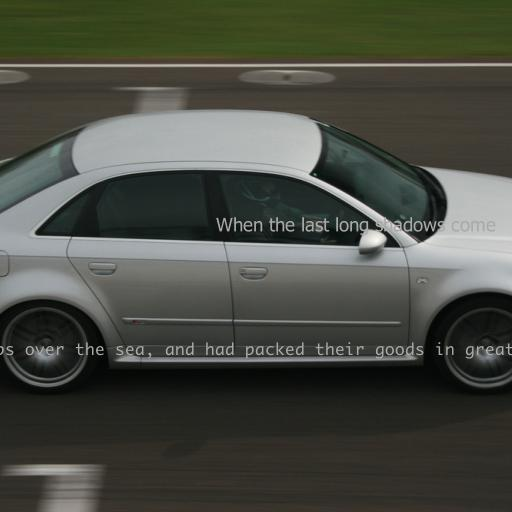Monaco: (0, 342, 512, 359)
Tahoma: (216, 217, 496, 236)
